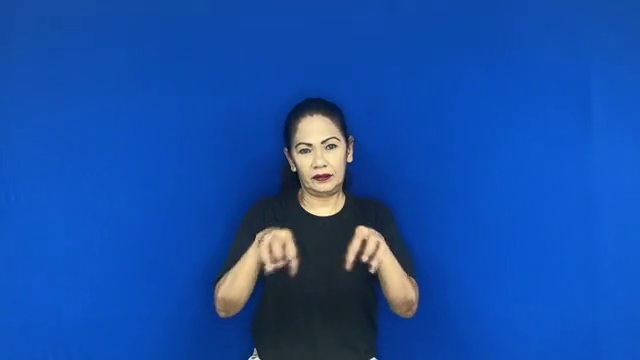egg: (246, 220, 389, 281)
